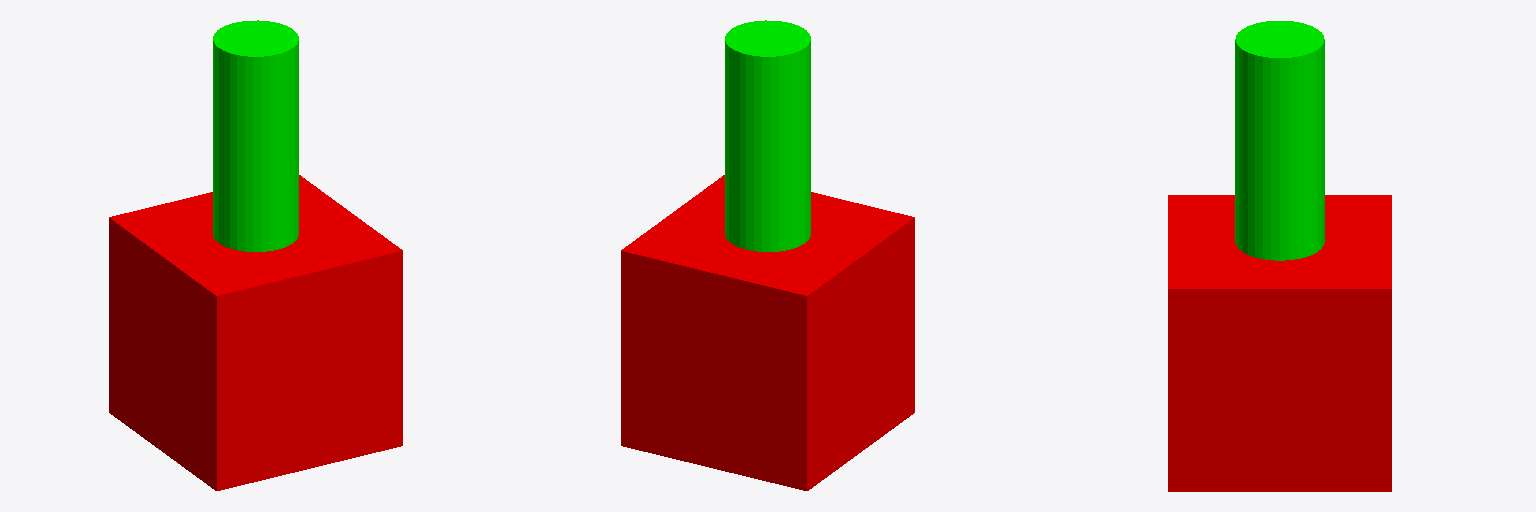
The robot description file, URDF, robot "dofbot_test":
<?xml version="1.0" encoding="utf-8"?>
<robot name="dofbot_test">
    <link name="base_link">
        <visual>
            <origin xyz="0 0 0.05" rpy="0 0 0"/>
            <geometry>
                <box size="0.1 0.1 0.1"/>
            </geometry>
            <material name="red">
                <color rgba="1 0 0 1"/>
            </material>
        </visual>
    </link>
    
    <link name="link1">
        <visual>
            <origin xyz="0 0 0.05" rpy="0 0 0"/>
            <geometry>
                <cylinder radius="0.02" length="0.1"/>
            </geometry>
            <material name="green">
                <color rgba="0 1 0 1"/>
            </material>
        </visual>
    </link>
    <joint name="joint1" type="revolute">
        <origin xyz="0 0 0.1" rpy="0 0 0"/>
        <parent link="base_link"/>
        <child link="link1"/>
        <axis xyz="0 0 1"/>
        <limit lower="-1.57" upper="1.57" effort="100" velocity="1"/>
    </joint>
</robot>

--- What the picture shows (computed from the rendered views, not written in the file) ---
3 views of the same robot in one strip: view 1: azimuth 30°, elevation 25°; view 2: azimuth 150°, elevation 25°; view 3: azimuth 270°, elevation 25° (orthographic).
Robot: dofbot_test — 2 links, 1 joints (1 revolute); root link base_link; default pose: all joints at 0.
Visible links, largest first — view 1: base_link, link1; view 2: base_link, link1; view 3: base_link, link1.
Boxes of the visible links, box(x1,y1,x2,y2) form: base_link: box(109, 175, 402, 490); link1: box(213, 20, 298, 251); base_link: box(621, 175, 914, 490); link1: box(725, 20, 810, 251); base_link: box(1168, 195, 1391, 491); link1: box(1235, 21, 1324, 260).
Size in the robot's own frame: 0.1 by 0.1 by 0.2 metres.
Geometry: primitives only (box / cylinder / sphere), no mesh files.
